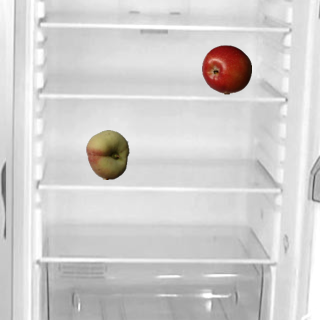Apple Braeburn: (201, 44, 251, 94)
Peach Flat: (82, 129, 132, 179)
